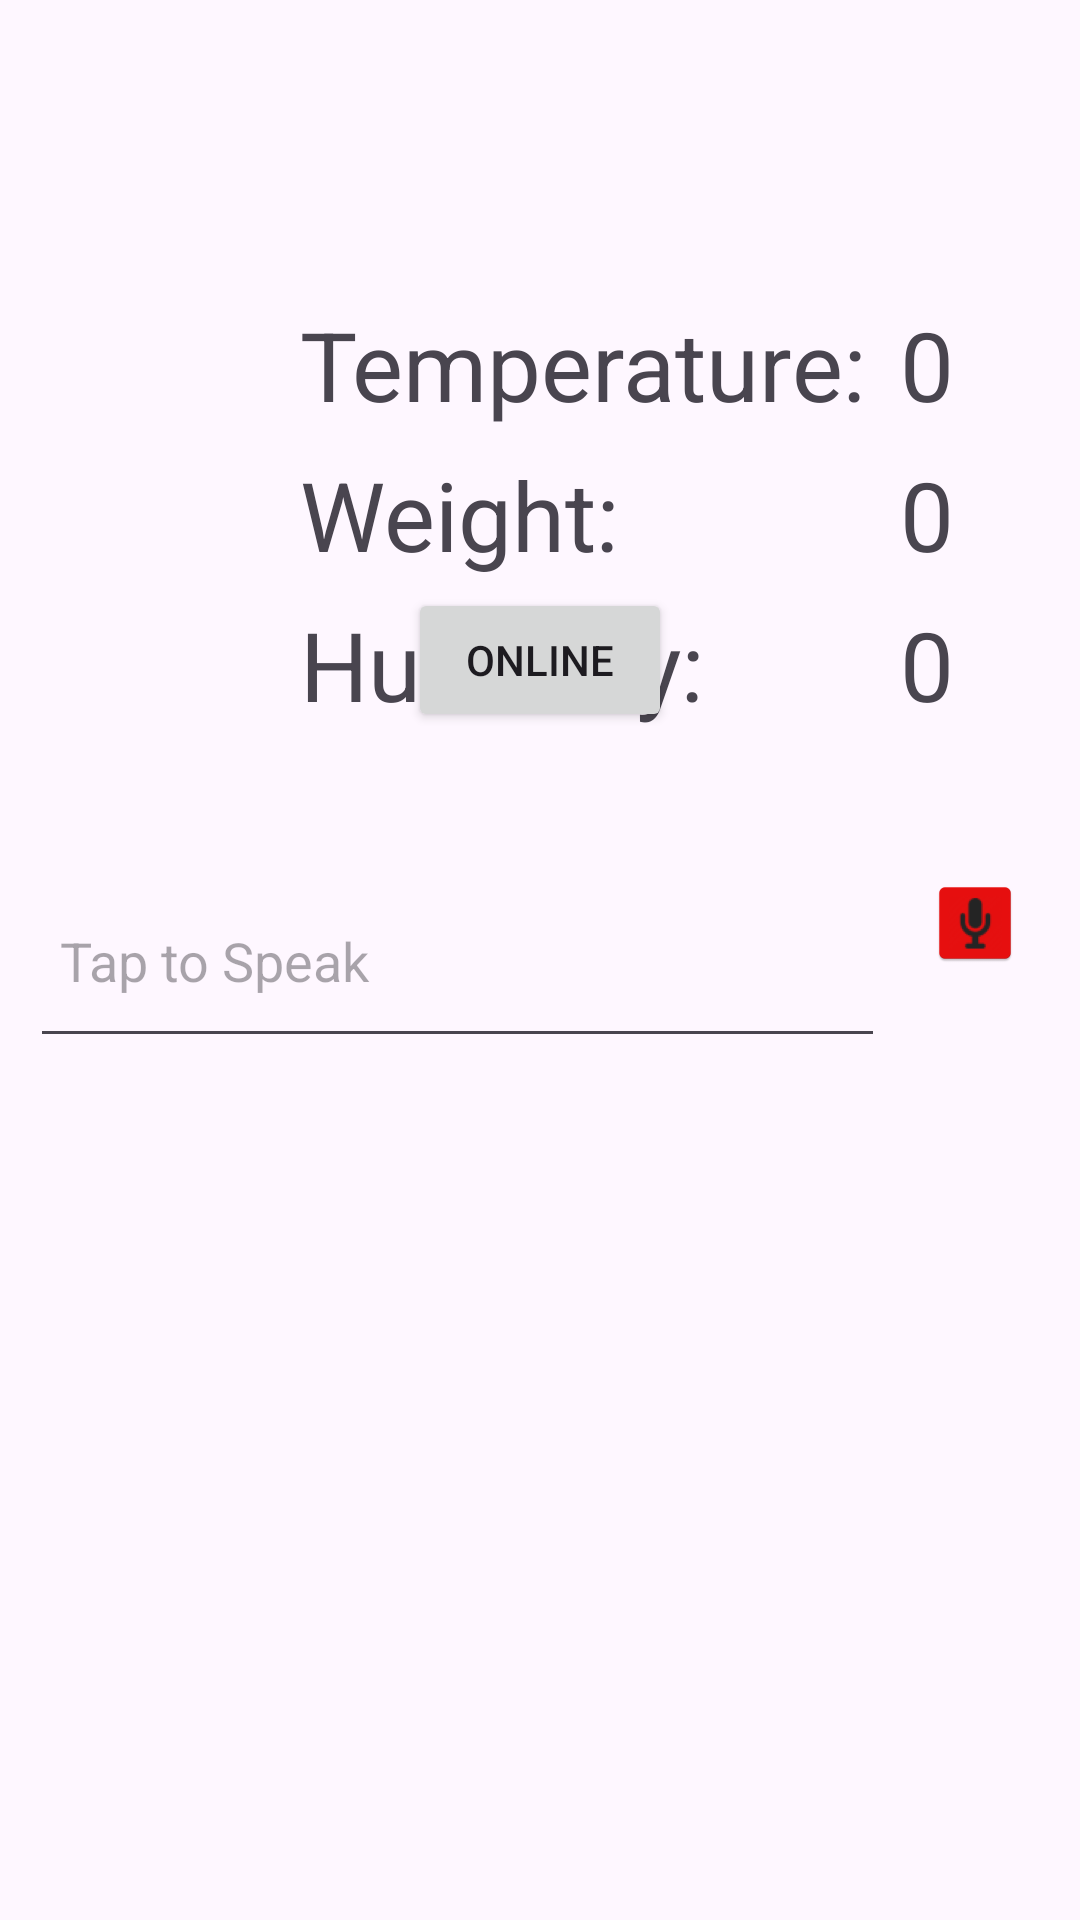

Where icons sit on this 1080×1920 app screen, as box(x1, y1, x2, y2):
audio: box(939, 887, 1011, 961)
